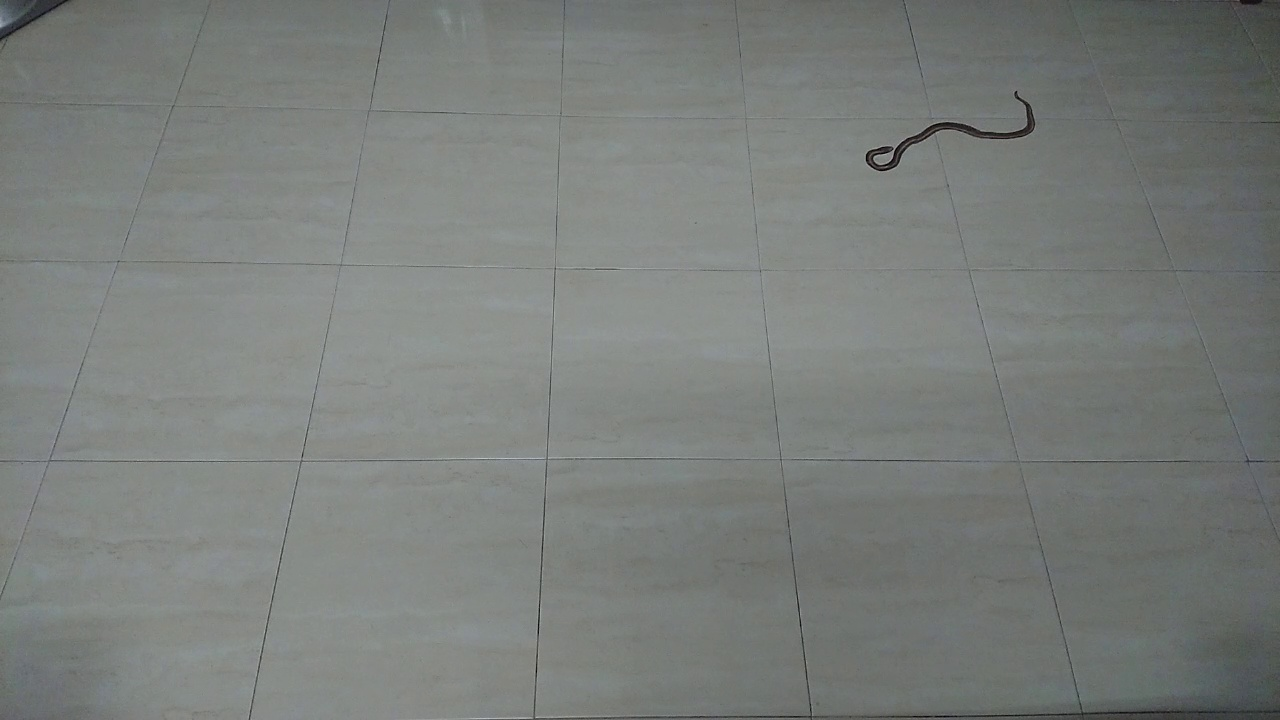snake: (850, 79, 1053, 180)
